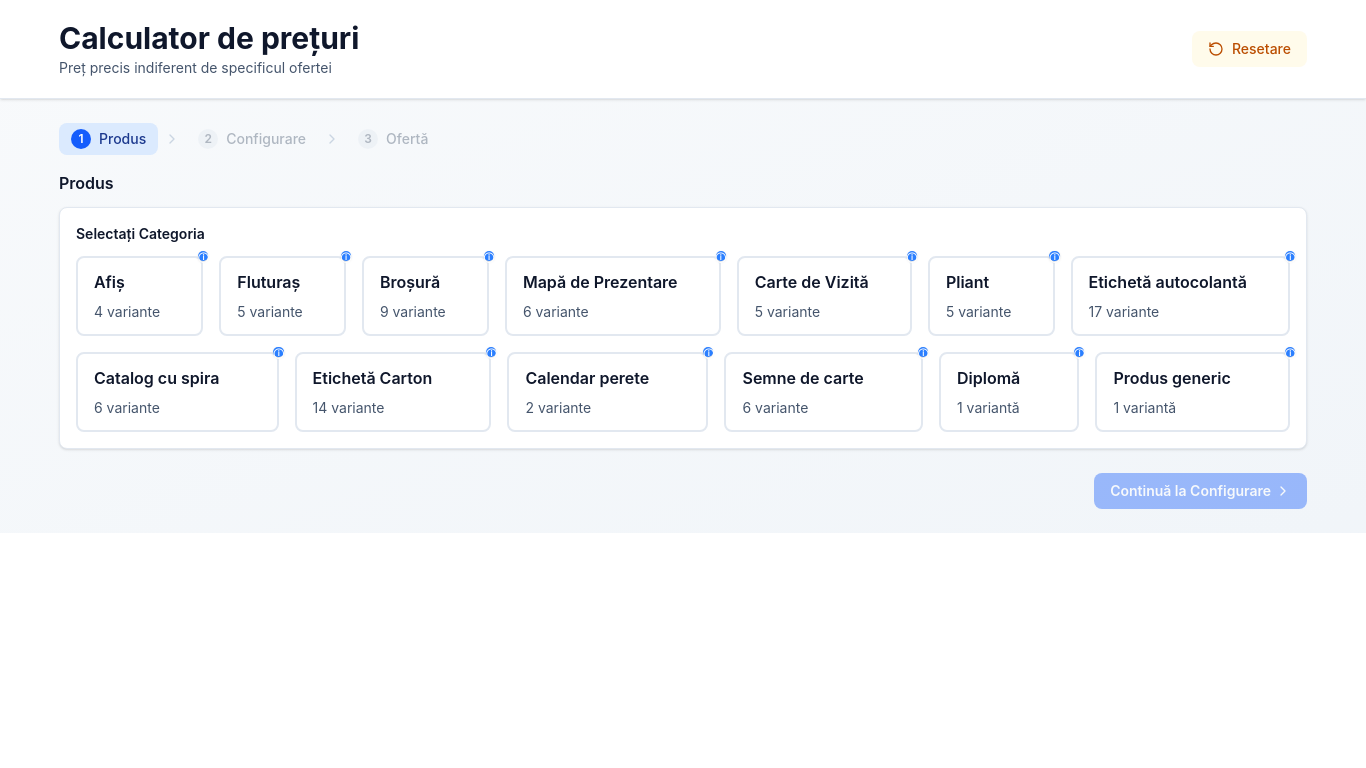
Scenario: ProductConfigurator › flow › draws the product beside the price while configuring
Step 1. Click the text "Fluturaș" → (269, 282), box [237,272,300,292]
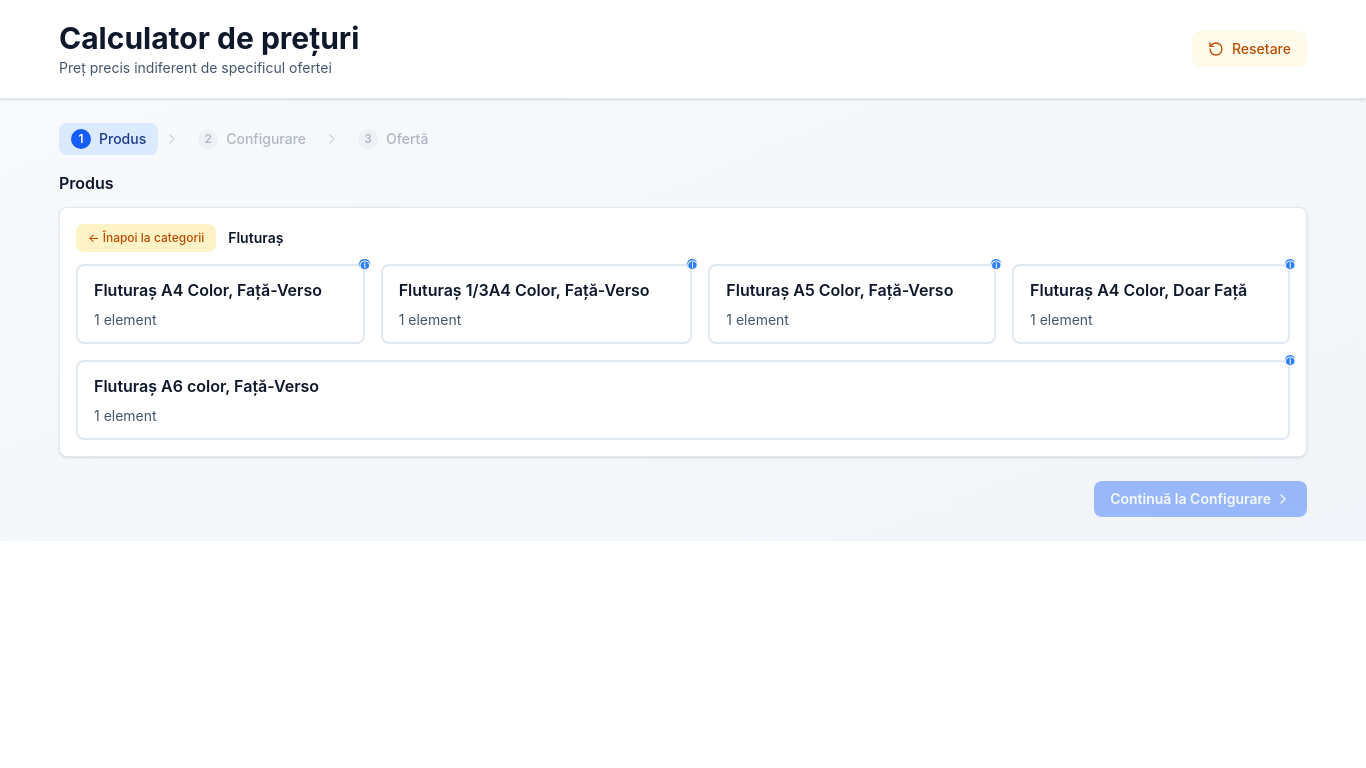
Step 2. Click the text "Fluturaș A4 Color, Față-Verso" → (220, 290), box [94,278,347,302]
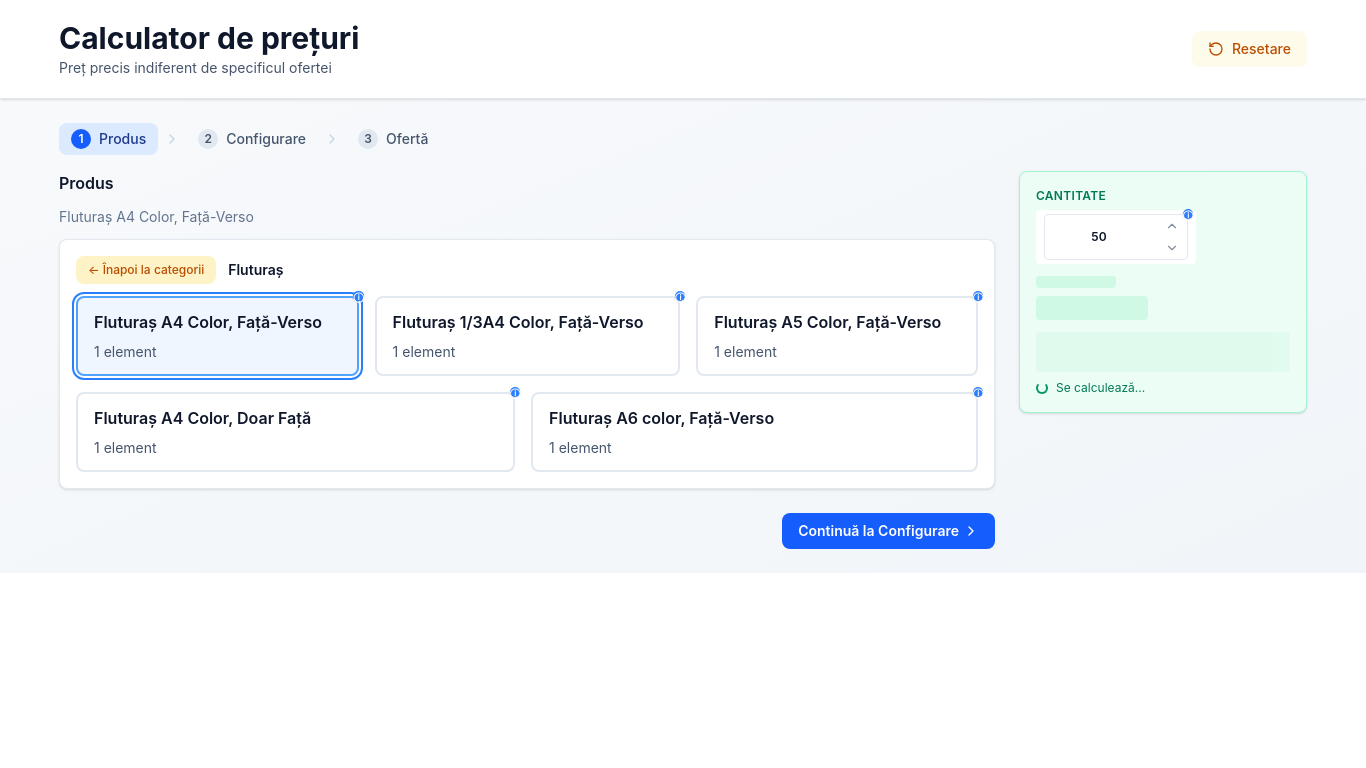
Expected: the text "Previzualizare" is not shown
Step 3. Click the button "Continuă la Configurare" → (889, 531), box [782,513,995,549]
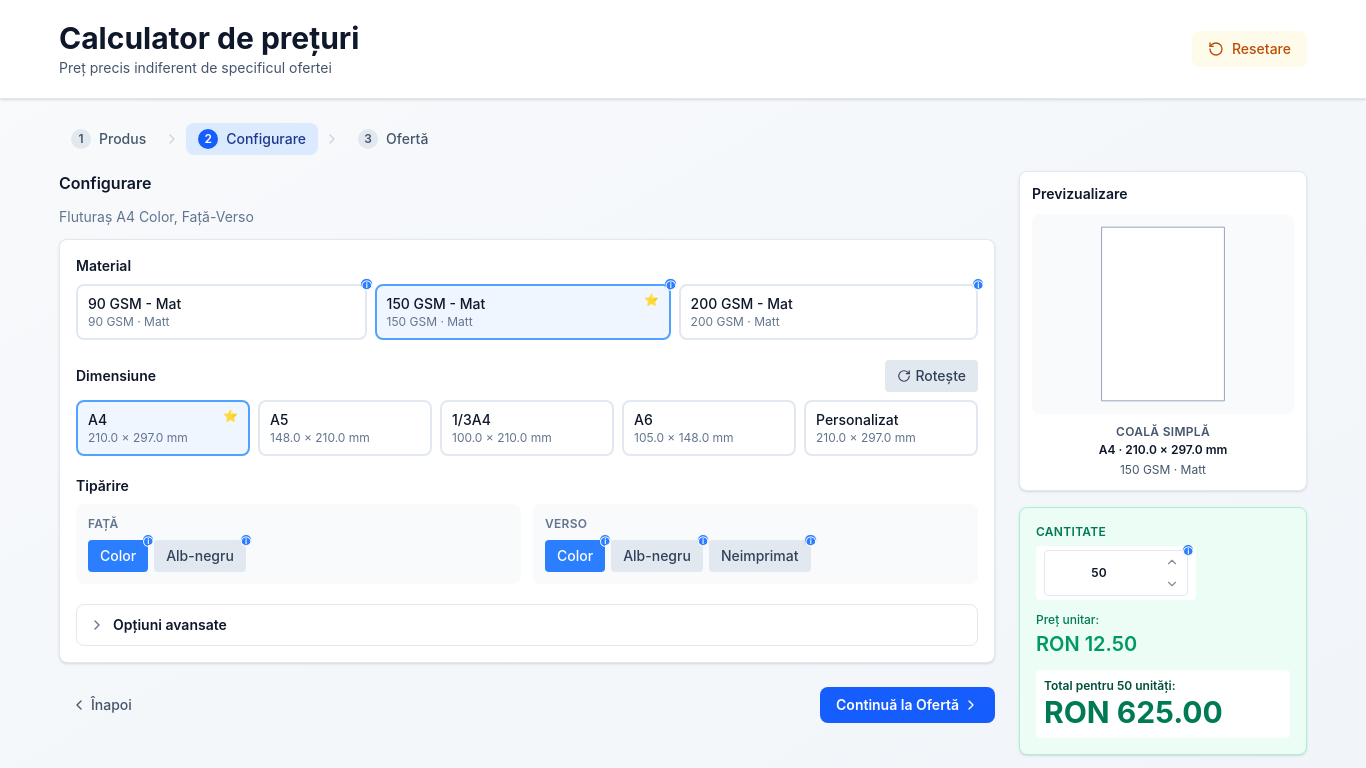
Now the heading "Previzualizare" is shown, box [1032,185,1128,202]
Now the picture named "Coală Simplă" is shown, box [1044,226,1282,402]
